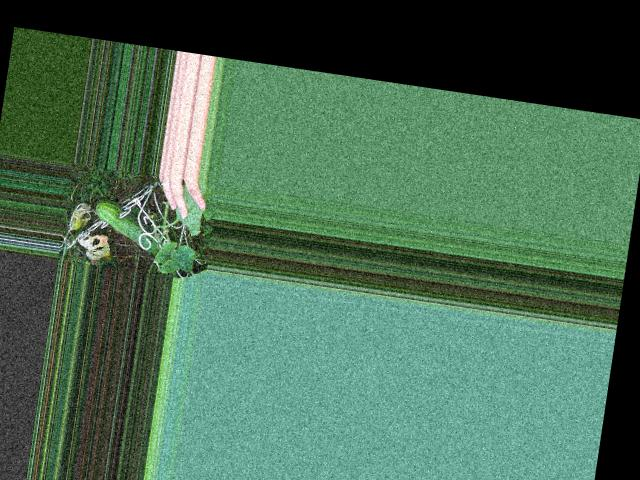cucumber: (90, 198, 166, 255)
